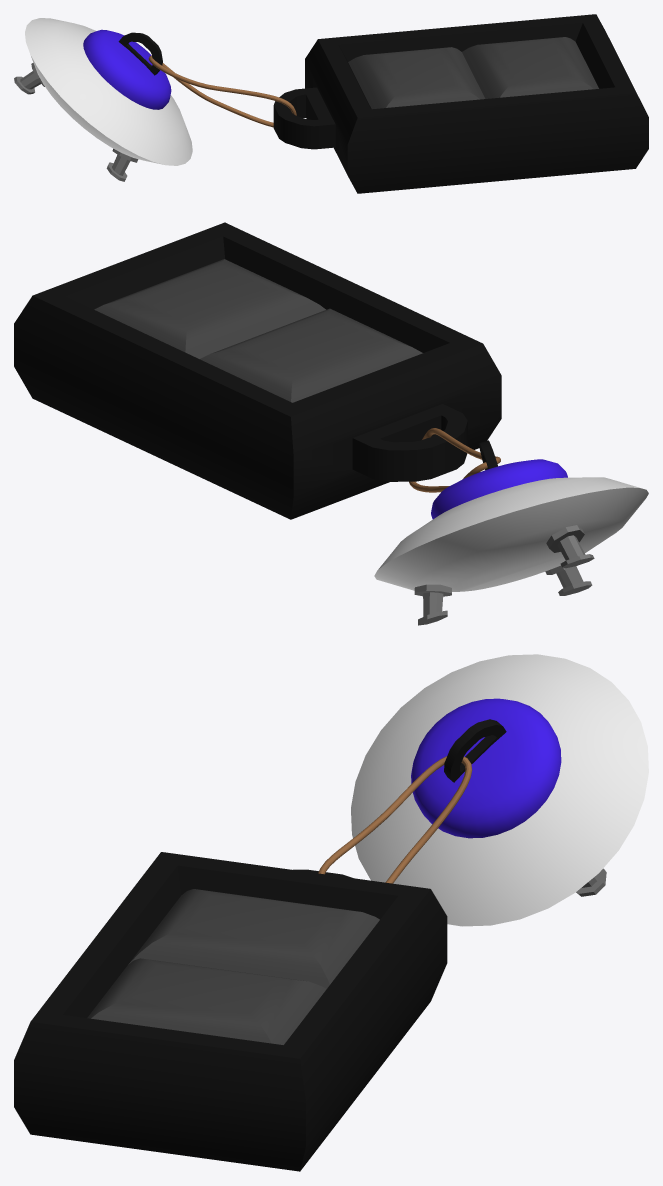
File: ключ.fbx
3 views of the same model, one above another, from view 1: azimuth 30°, elevation 25°; view 2: azimuth 150°, elevation 25°; view 3: azimuth 270°, elevation 25° (orthographic). The views are drawn at different scales.
Visible parts, largest first — view 1: Ключ; view 2: Ключ; view 3: Ключ.
Part boxes in pixels (x1,y1,x2,y2): Ключ: (14, 14, 648, 193); Ключ: (14, 222, 648, 625); Ключ: (14, 654, 648, 1171).
Size of the model in its own units: 14.07 by 3.2 by 10.21.
